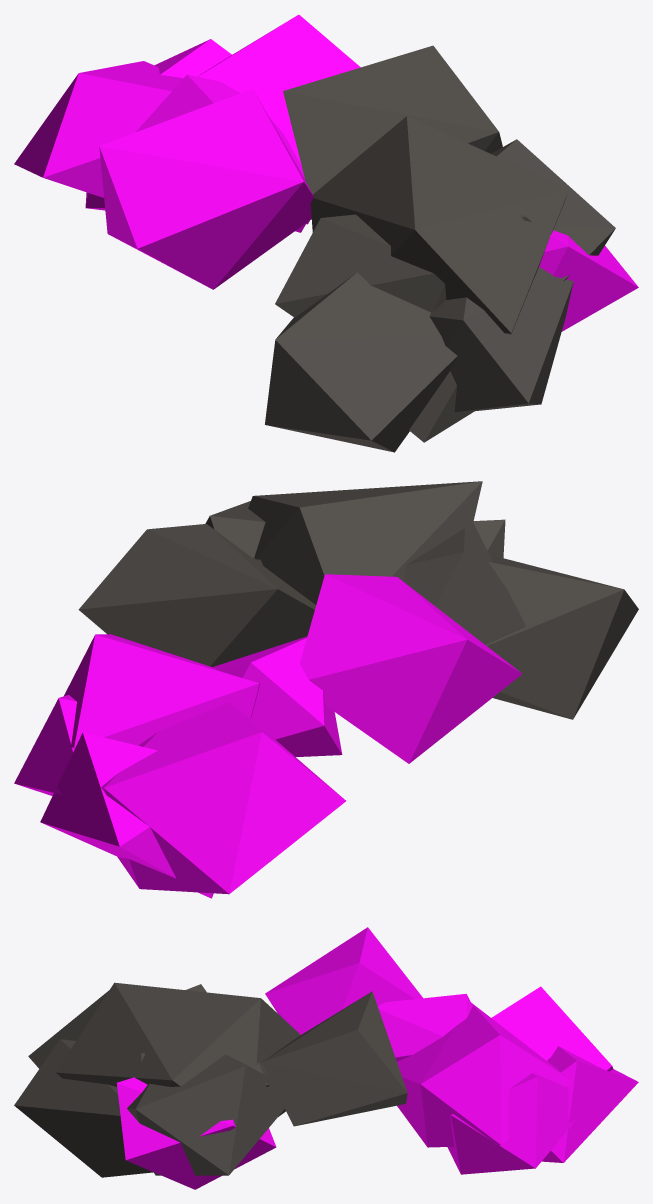
File: objet_caillou.glb
3 views of the same model, one above another, from view 1: azimuth 30°, elevation 25°; view 2: azimuth 150°, elevation 25°; view 3: azimuth 270°, elevation 25° (orthographic). The views are drawn at different scales.
Visible parts, largest first — view 1: cailloux_pierre_sombre.002, cailloux_teinte.002; view 2: cailloux_teinte.002, cailloux_pierre_sombre.002; view 3: cailloux_pierre_sombre.002, cailloux_teinte.002.
Boxes of the visible parts, x1,y1,x2,y2 form: cailloux_pierre_sombre.002: [265, 45, 615, 452]; cailloux_teinte.002: [14, 14, 638, 331]; cailloux_teinte.002: [14, 574, 522, 898]; cailloux_pierre_sombre.002: [78, 481, 638, 719]; cailloux_pierre_sombre.002: [14, 982, 407, 1177]; cailloux_teinte.002: [116, 927, 638, 1189].
Bounding box in the file's own units: 0.1558 × 0.0812 × 0.2706.
